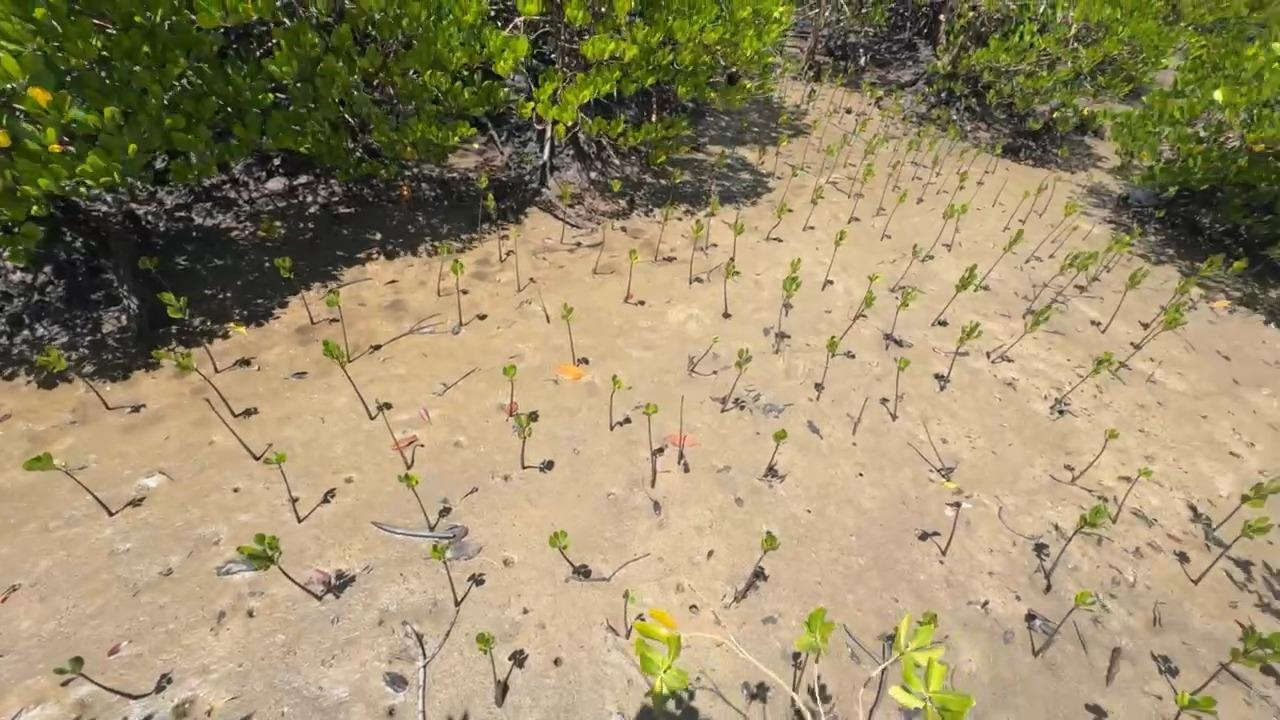Tree: (1189, 625, 1280, 696), (22, 452, 115, 518), (235, 533, 320, 603), (150, 349, 236, 418), (1193, 515, 1274, 585), (1045, 502, 1114, 579), (156, 290, 220, 373), (35, 344, 111, 410), (1113, 311, 1188, 373), (1034, 590, 1098, 658), (1022, 251, 1086, 319), (322, 339, 372, 420), (1049, 351, 1116, 410), (1024, 200, 1085, 264), (1213, 475, 1280, 532), (991, 303, 1054, 363), (52, 655, 135, 700), (1185, 256, 1248, 313), (203, 397, 258, 461), (1101, 264, 1151, 334), (736, 529, 781, 604), (973, 229, 1024, 293), (940, 320, 984, 392), (1079, 232, 1127, 294), (1144, 276, 1197, 332), (930, 264, 977, 327), (262, 452, 301, 524), (1048, 251, 1099, 306), (275, 256, 315, 325), (848, 133, 889, 200), (1173, 252, 1226, 303), (1071, 428, 1120, 483), (1133, 301, 1189, 349), (374, 398, 410, 469), (1112, 467, 1155, 524), (397, 472, 433, 532), (720, 347, 753, 412), (886, 287, 920, 350), (920, 202, 955, 263), (775, 275, 801, 354), (839, 289, 877, 342), (1105, 223, 1146, 272), (430, 540, 459, 607), (847, 159, 876, 225), (847, 79, 875, 147), (326, 288, 350, 363), (922, 421, 951, 481), (1094, 235, 1131, 282), (821, 228, 848, 292), (891, 242, 924, 292), (852, 272, 885, 321), (936, 146, 969, 195), (810, 143, 835, 204), (816, 335, 839, 401), (880, 188, 908, 241), (642, 402, 659, 489), (911, 131, 940, 181), (935, 125, 962, 178), (976, 138, 1006, 185), (484, 190, 503, 263), (1174, 690, 1219, 720), (876, 160, 900, 216), (892, 136, 916, 192), (476, 631, 499, 689), (843, 118, 869, 169), (1039, 146, 1070, 188), (824, 133, 849, 185), (137, 255, 171, 292), (892, 356, 911, 422), (763, 428, 788, 478), (549, 530, 579, 571), (1002, 190, 1031, 232), (473, 168, 489, 243), (1022, 183, 1049, 226), (653, 200, 672, 261), (947, 203, 970, 252), (1048, 224, 1080, 259), (720, 218, 746, 260), (450, 258, 466, 326), (784, 257, 802, 317), (838, 64, 856, 124), (917, 155, 939, 204), (689, 218, 705, 285), (817, 103, 838, 154), (802, 186, 825, 232), (1038, 175, 1062, 219), (943, 501, 962, 556), (690, 336, 719, 372), (514, 413, 532, 470), (791, 651, 809, 708), (800, 119, 820, 170), (437, 242, 454, 297), (704, 195, 721, 250), (824, 71, 844, 117), (892, 112, 915, 152), (560, 302, 574, 365), (911, 122, 931, 165), (883, 89, 904, 129), (708, 149, 727, 193), (559, 180, 572, 244), (771, 132, 788, 180), (609, 373, 623, 431), (591, 224, 607, 274), (1051, 215, 1079, 243), (780, 164, 800, 203), (767, 203, 788, 240), (624, 248, 638, 303), (724, 256, 736, 319), (503, 364, 517, 417), (511, 225, 522, 292), (852, 396, 870, 436), (622, 588, 636, 639), (948, 170, 969, 204), (731, 116, 748, 154), (866, 87, 885, 119), (884, 104, 903, 135), (783, 58, 797, 100), (887, 138, 906, 168), (752, 143, 766, 182), (992, 176, 1009, 208), (968, 143, 987, 171), (610, 178, 622, 221), (1076, 173, 1094, 201), (800, 71, 815, 104), (538, 288, 551, 325), (915, 610, 939, 630), (669, 166, 682, 202), (678, 395, 684, 465), (773, 110, 791, 133), (949, 130, 966, 152), (969, 181, 985, 203), (992, 154, 1000, 175)
